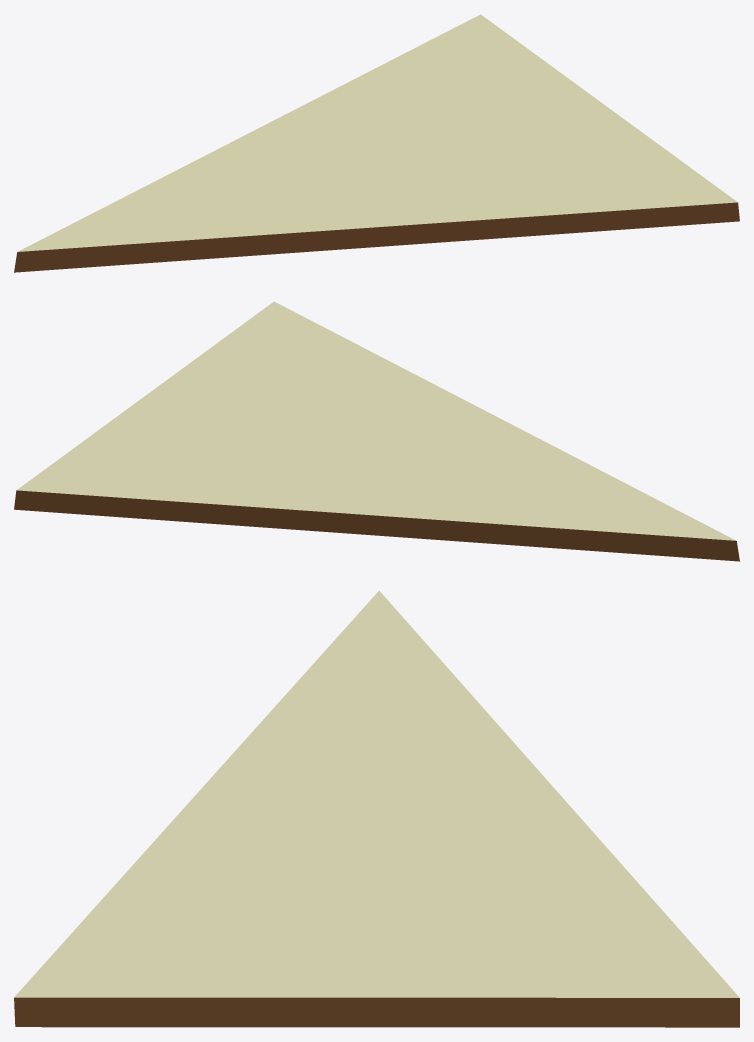
Rendered from splitLogRoofTriangleLowContent.glb.
3 renders of one model, top to bottom at view 1: azimuth 30°, elevation 25°; view 2: azimuth 150°, elevation 25°; view 3: azimuth 270°, elevation 25°, orthographic. The views are drawn at different scales.
Parts seen in each view (by area): view 1: Cylinder.002; view 2: Cylinder.002; view 3: Cylinder.002.
Boxes of the visible parts, box(x1,y1,x2,y2) form: Cylinder.002: box(14, 14, 739, 272); Cylinder.002: box(14, 301, 739, 561); Cylinder.002: box(14, 590, 739, 1027).
Bounding box in the file's own units: 2.99 × 0.0962 × 2.23.
